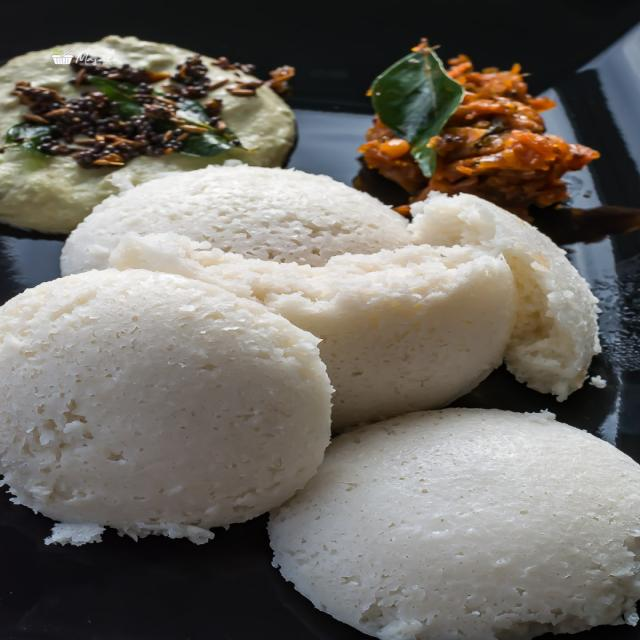IDLI: (0, 267, 334, 541), (268, 409, 639, 639), (111, 233, 516, 430), (60, 161, 414, 276), (409, 193, 599, 399)
